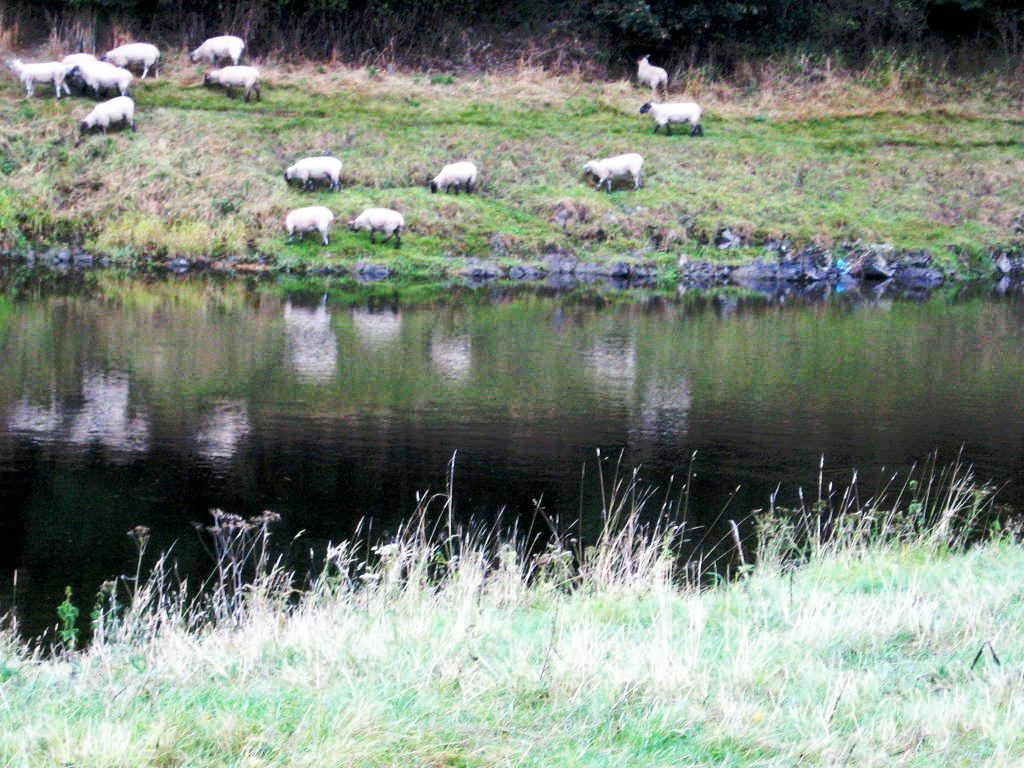Sheep: (4, 59, 69, 100), (347, 206, 405, 251), (65, 62, 133, 100), (579, 152, 639, 195), (102, 42, 162, 79), (641, 102, 703, 136), (79, 96, 134, 134), (203, 66, 266, 99), (280, 206, 334, 243), (283, 159, 344, 191), (190, 35, 248, 67), (427, 165, 480, 196), (637, 56, 669, 98)
